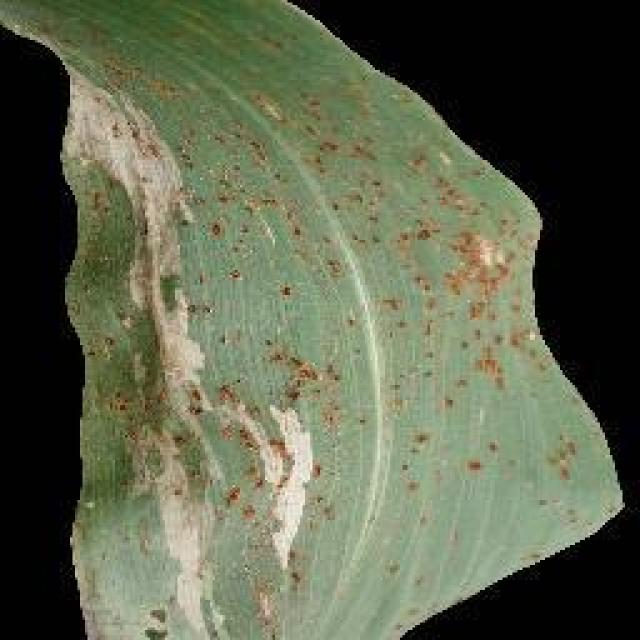Corn Common Rust: (127, 37, 607, 640)
